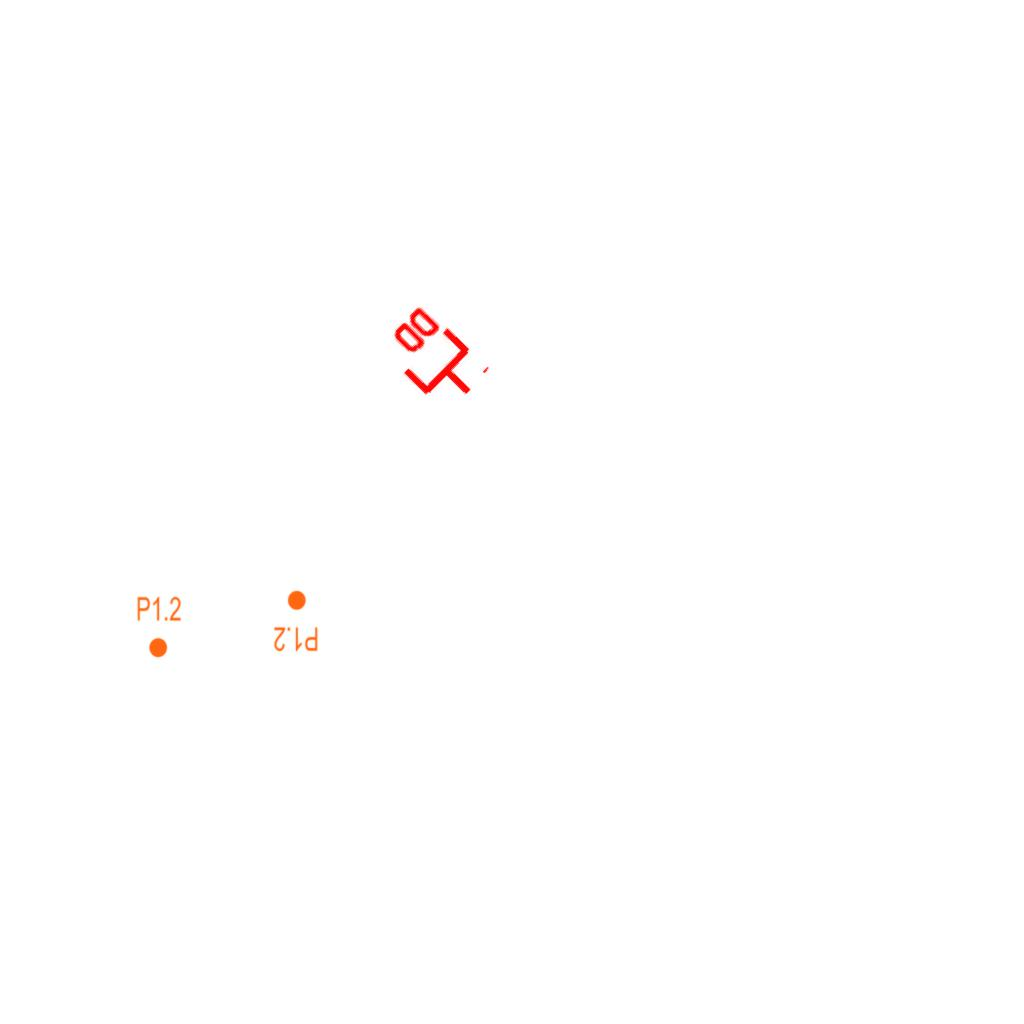Datenanschluss_zweifach: (371, 298, 494, 421)
Downlight_LED_Einbauleuchten_Flur: (273, 589, 319, 653), (136, 595, 182, 659)
